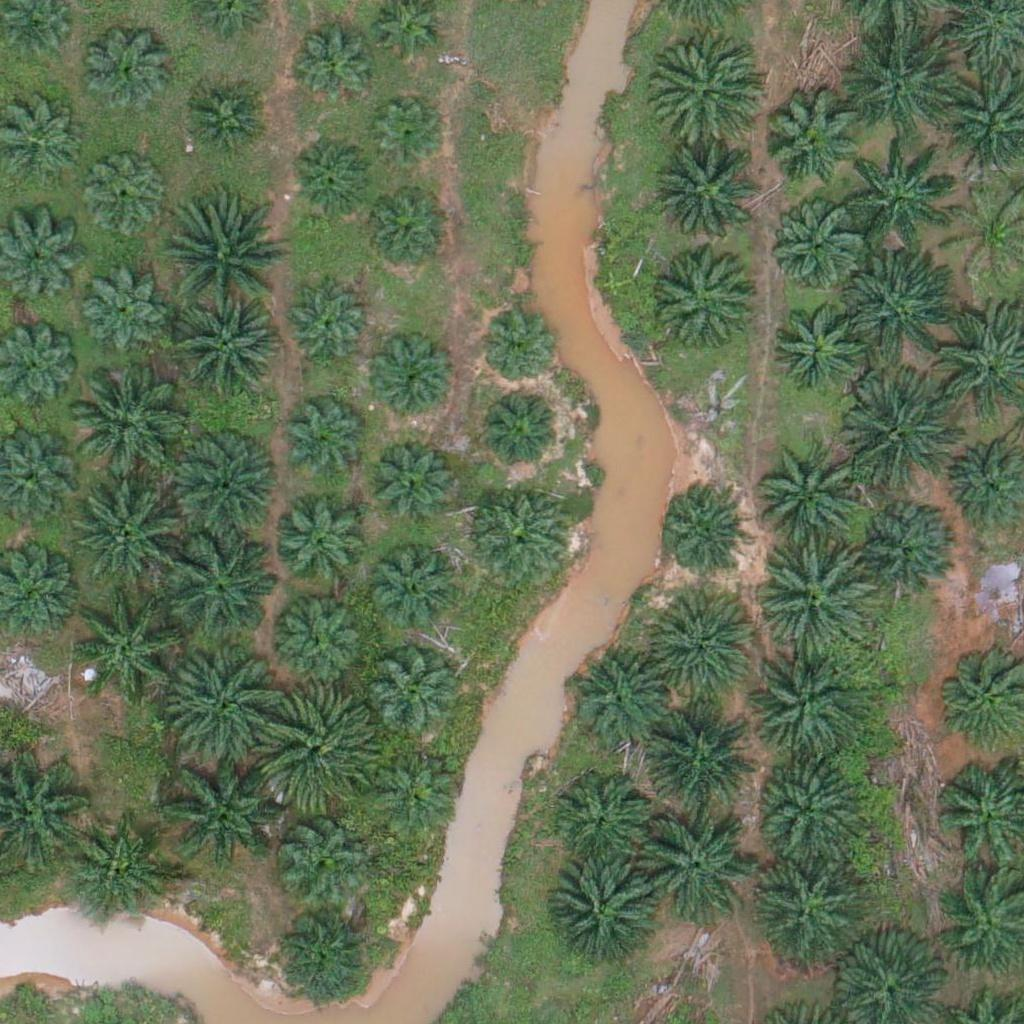Kelapa_Sawit: (756, 748, 869, 862), (844, 376, 957, 490), (747, 653, 860, 767), (645, 589, 758, 703), (162, 426, 275, 540), (544, 860, 657, 973), (845, 250, 958, 363), (647, 31, 760, 144), (261, 690, 374, 803), (169, 203, 282, 316), (166, 524, 279, 637), (644, 697, 756, 811), (654, 140, 766, 254), (173, 651, 285, 765), (748, 851, 860, 964), (636, 808, 748, 921), (162, 753, 274, 866), (842, 137, 954, 250), (846, 22, 958, 135), (758, 430, 870, 543), (762, 544, 874, 657), (167, 296, 279, 409), (74, 590, 186, 703), (74, 481, 186, 594), (70, 369, 182, 482), (551, 770, 651, 871), (854, 497, 954, 598), (764, 197, 864, 298), (768, 293, 868, 394), (657, 249, 757, 350), (470, 482, 570, 583), (362, 543, 462, 644), (570, 650, 670, 751), (272, 905, 372, 1005), (69, 826, 169, 926), (761, 90, 861, 190), (272, 589, 372, 689), (276, 493, 376, 593), (289, 19, 377, 108), (276, 812, 364, 900), (175, 79, 263, 167), (359, 186, 447, 274), (373, 747, 461, 835), (282, 396, 370, 484), (81, 155, 169, 243), (658, 483, 745, 571), (288, 134, 375, 222), (281, 282, 368, 370), (370, 339, 457, 427), (477, 385, 564, 473), (371, 655, 458, 743), (366, 434, 453, 522), (83, 26, 170, 114), (80, 268, 167, 356), (371, 99, 446, 175), (480, 312, 555, 388)
